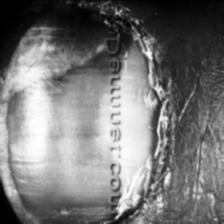Toxin: (0, 0, 157, 224)
